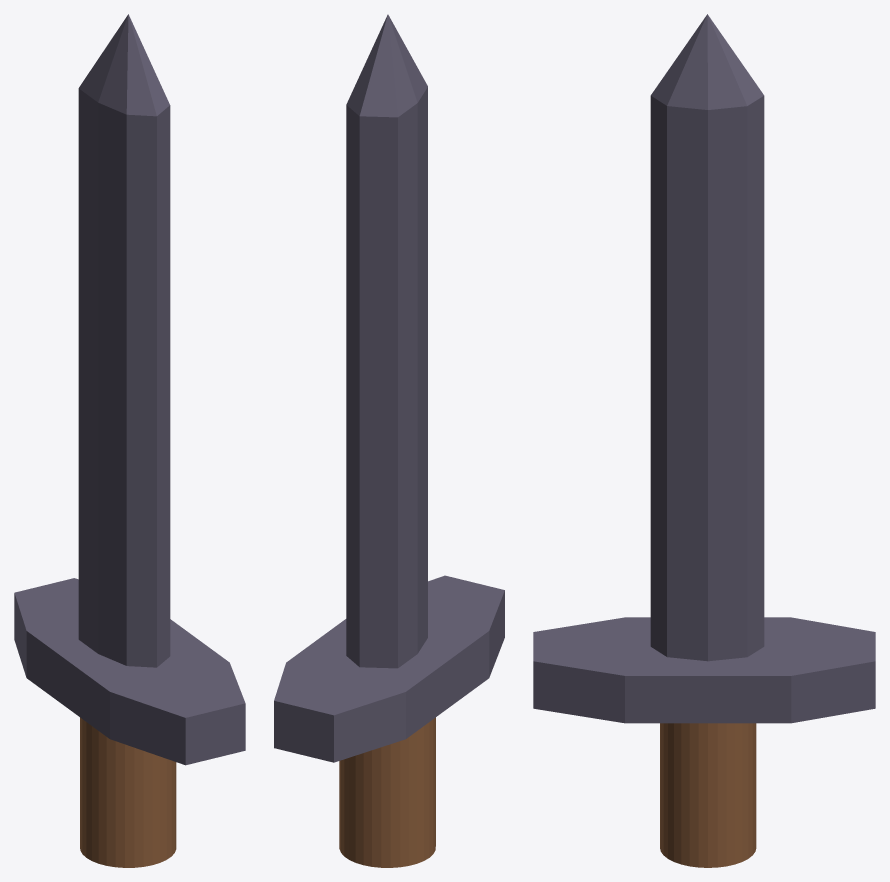
Rendered from Sword.dae.
3 views of the same model, side by side, from view 1: azimuth 30°, elevation 25°; view 2: azimuth 150°, elevation 25°; view 3: azimuth 270°, elevation 25° (orthographic).
Parts seen in each view (by area): view 1: Cube; view 2: Cube; view 3: Cube.
Boxes of the visible parts, x1=… form: Cube: x1=14, y1=14, x2=245, y2=867; Cube: x1=274, y1=14, x2=504, y2=867; Cube: x1=533, y1=14, x2=875, y2=867.
Size of the model in its own units: 0.2236 by 0.5529 by 1.49.
